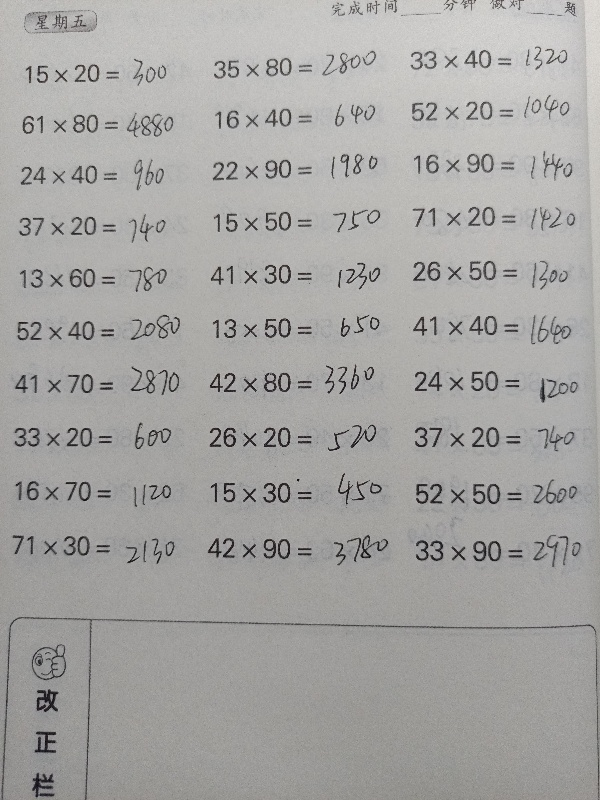equation: (1, 606, 162, 800), (412, 524, 585, 574), (405, 307, 585, 353), (201, 359, 381, 404), (407, 472, 587, 512), (203, 472, 383, 512), (13, 106, 193, 146), (402, 89, 582, 127), (205, 47, 385, 85), (198, 530, 378, 566), (3, 527, 183, 563), (406, 419, 586, 455), (406, 363, 586, 399), (201, 256, 381, 292), (404, 198, 584, 234), (6, 473, 186, 508), (201, 420, 381, 455), (6, 420, 186, 455), (7, 366, 187, 401), (9, 313, 189, 348), (204, 311, 384, 346), (11, 260, 191, 295), (404, 253, 584, 288), (204, 204, 384, 239), (11, 157, 191, 192), (405, 146, 585, 181), (402, 41, 582, 76), (10, 209, 190, 243), (204, 152, 384, 186), (206, 101, 386, 135), (16, 57, 196, 90)
